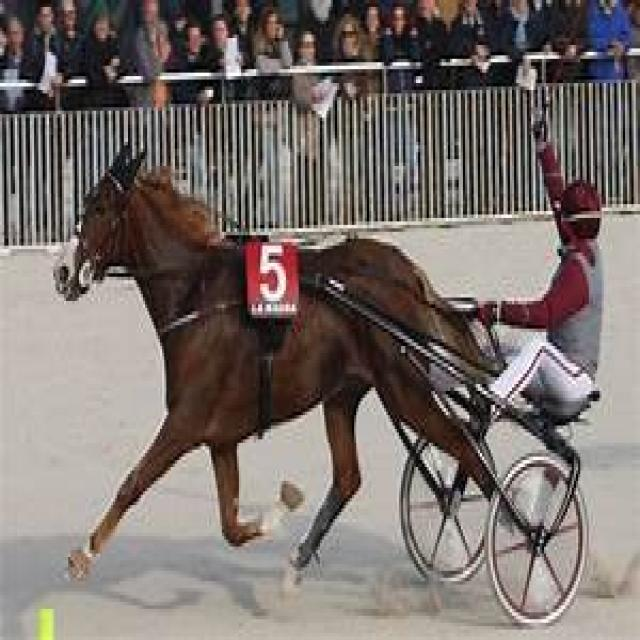horse: (51, 142, 504, 584)
